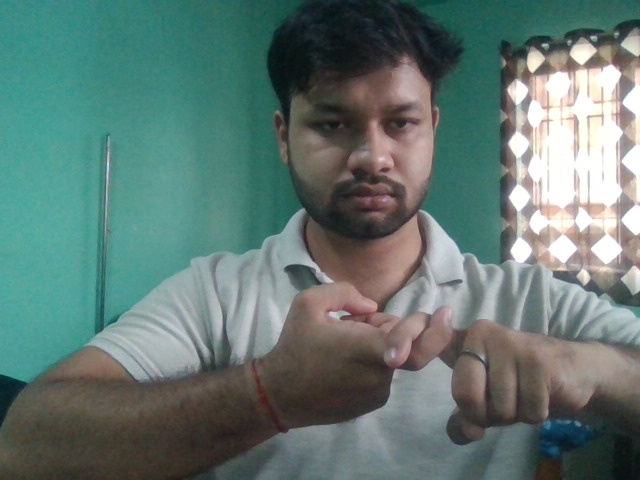Friend: (267, 280, 602, 448)
